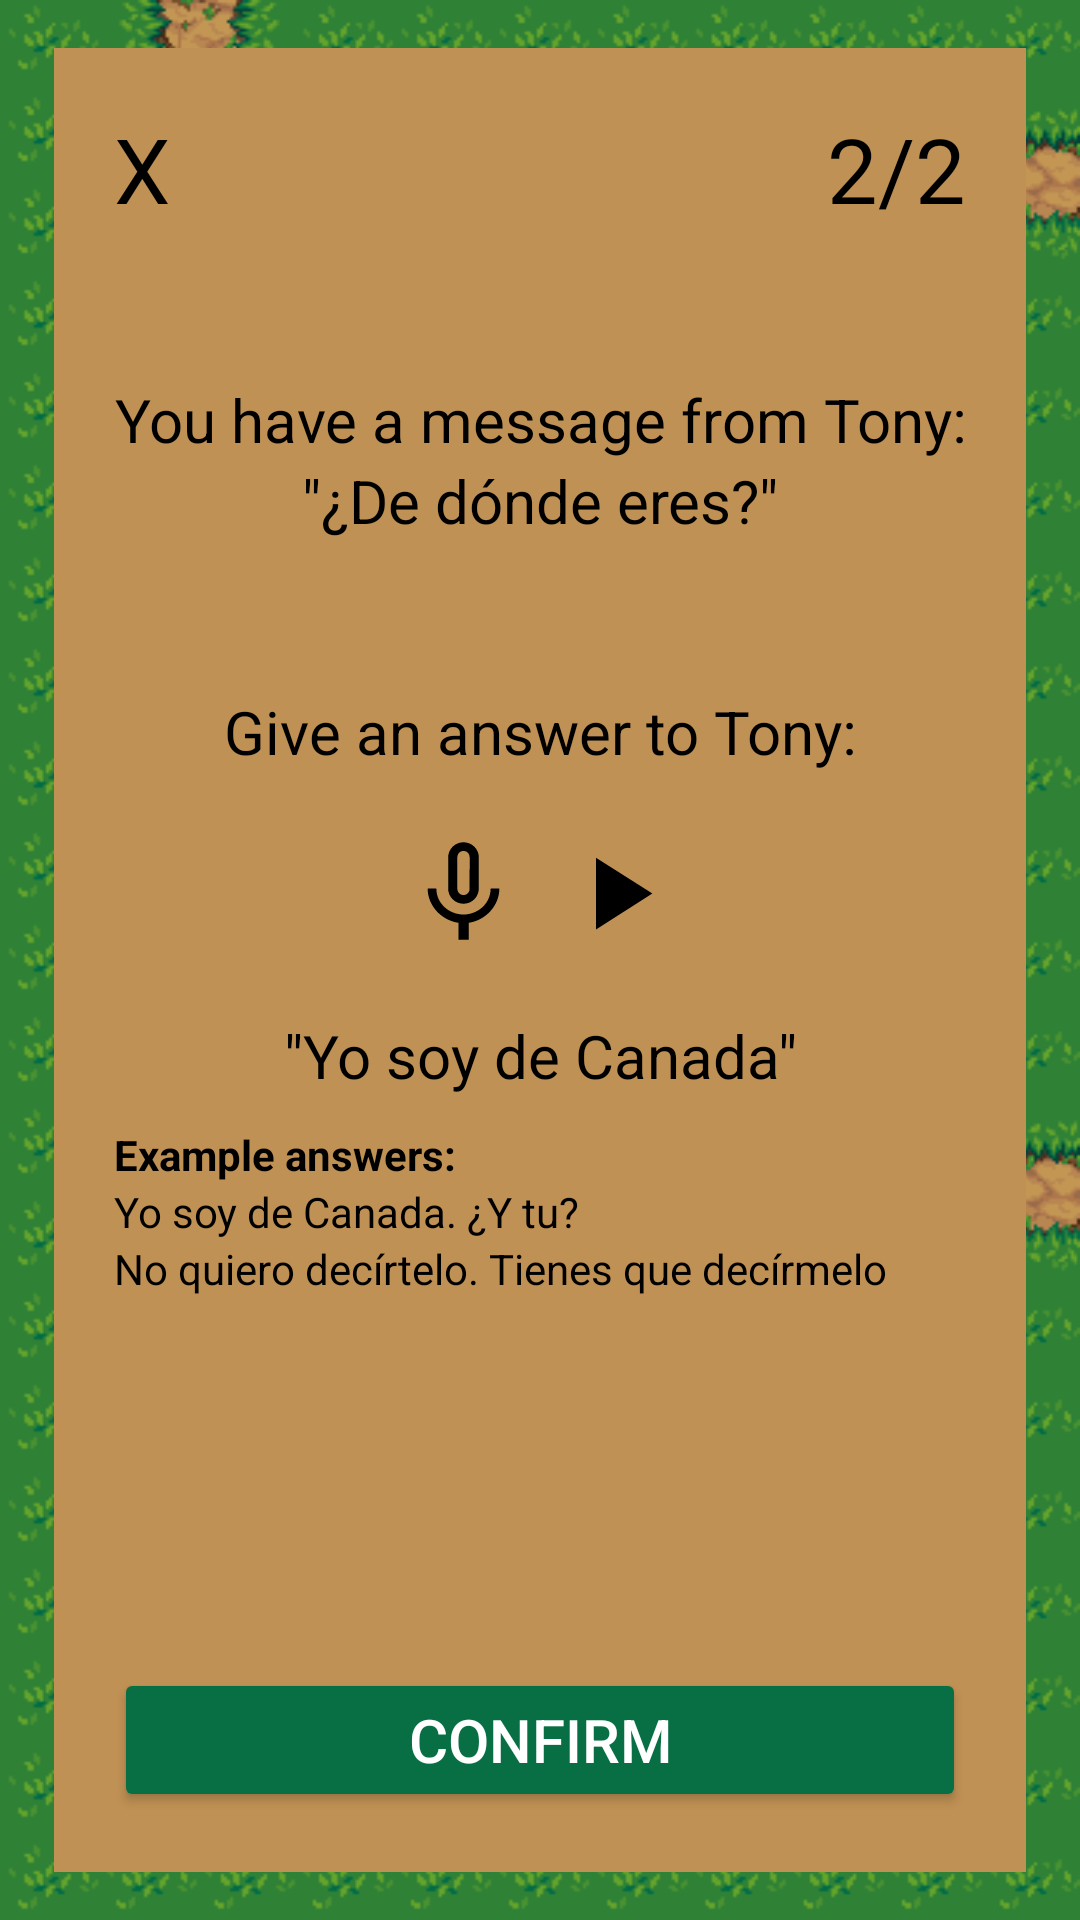

Named icons in this screenshot (1080px×1920px) and their bounding boxes, (x1, y1, x2, y2):
mic none: (427, 842, 500, 940)
play arrow: (596, 858, 652, 930)
